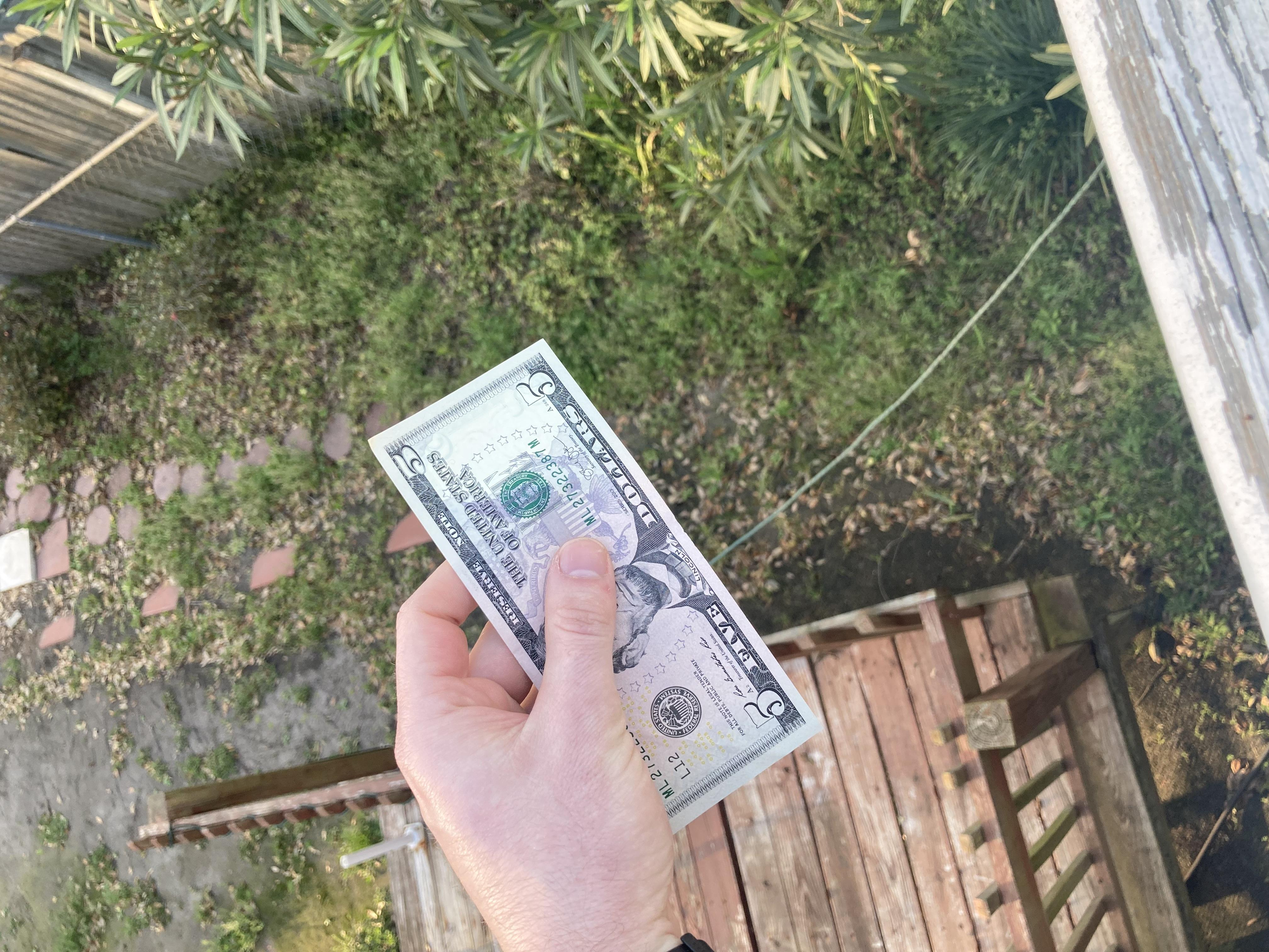five-front: (141, 275, 819, 616)
